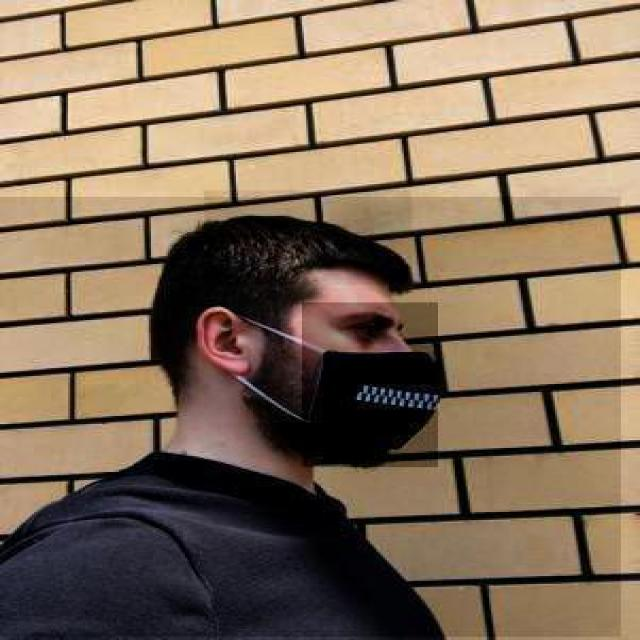face_mask: (302, 302, 438, 468)
head_nohelmet: (204, 190, 413, 285)
person: (0, 197, 623, 638)
